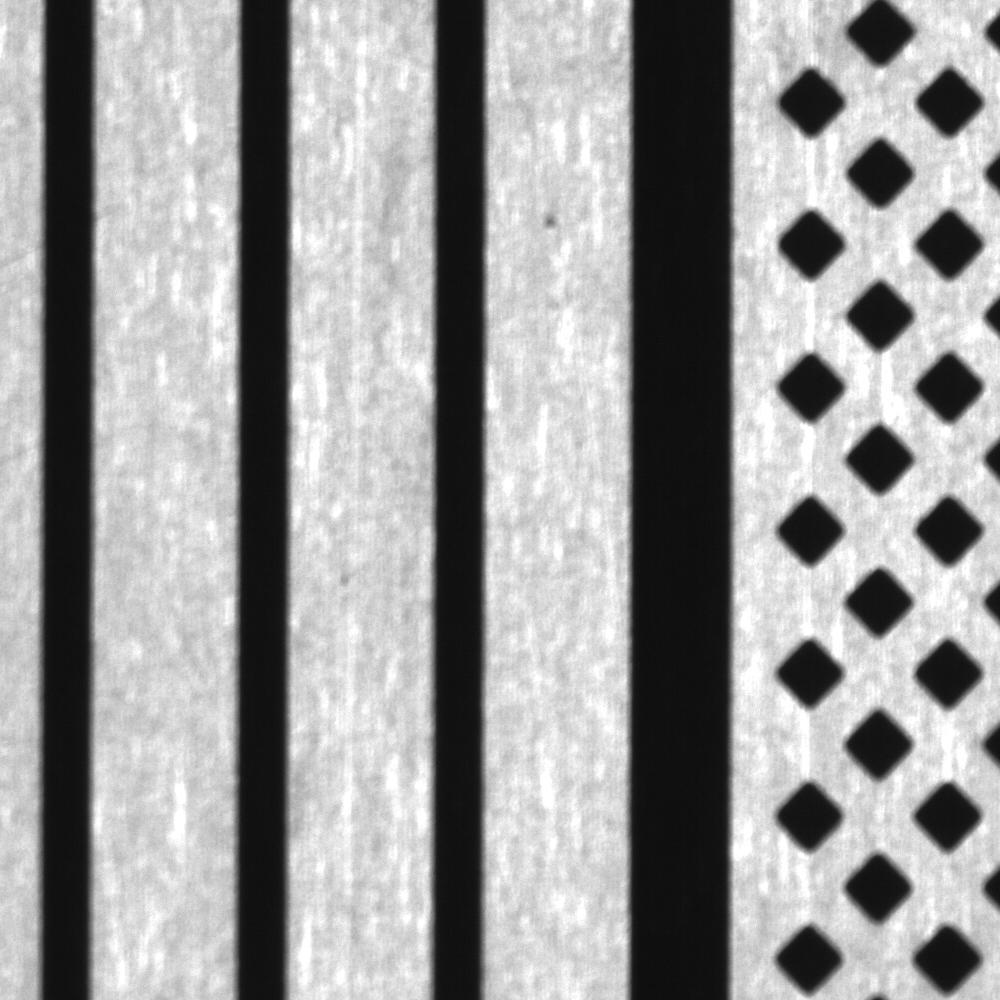Etching: (327, 560, 361, 595)
Pinhole: (535, 202, 566, 239)
